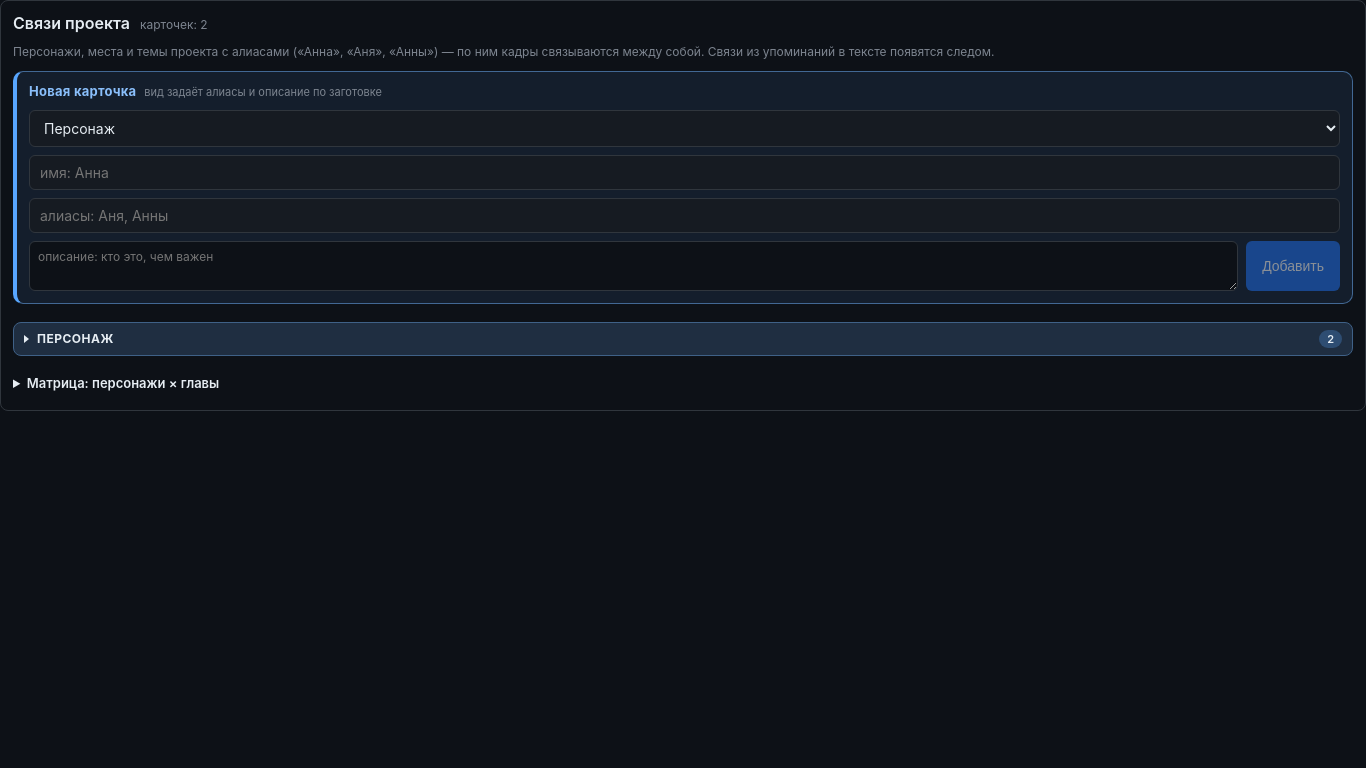
Test case: EntitiesPanel — матрица связей (0.71.0) › показывает таблицу с главами и количеством, а ноль — точкой
What coordinates should you click on to do the following:
click the heading "Матрица: персонажи × главы"
I would click on:
 (123, 383)
Its box is [27,375,219,391].
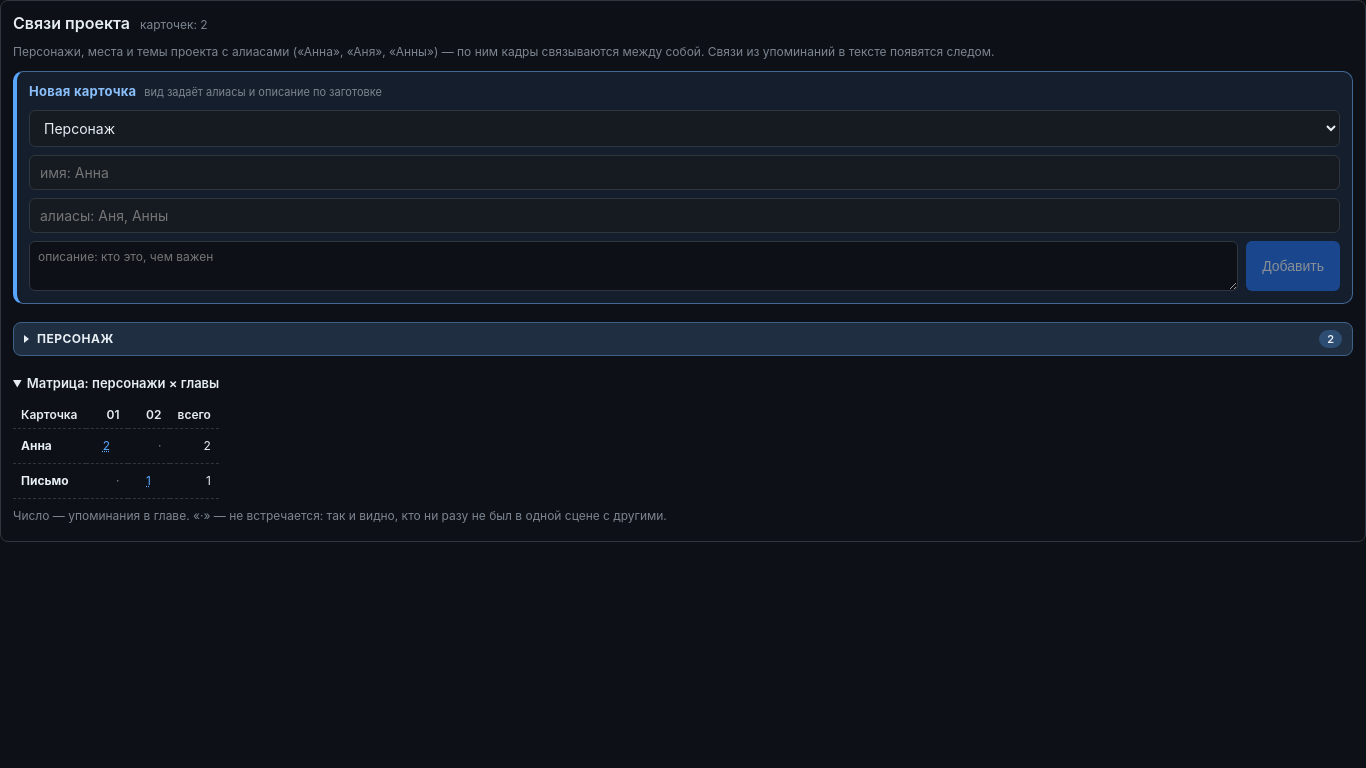
Expected: the column heading "02" is shown, [128,402,170,428]
Expected: the column heading titled "Пролог" is shown, [86,402,128,428]
Expected: the text "·" is shown 2 times, [128,428,170,463]; [86,463,128,498]
